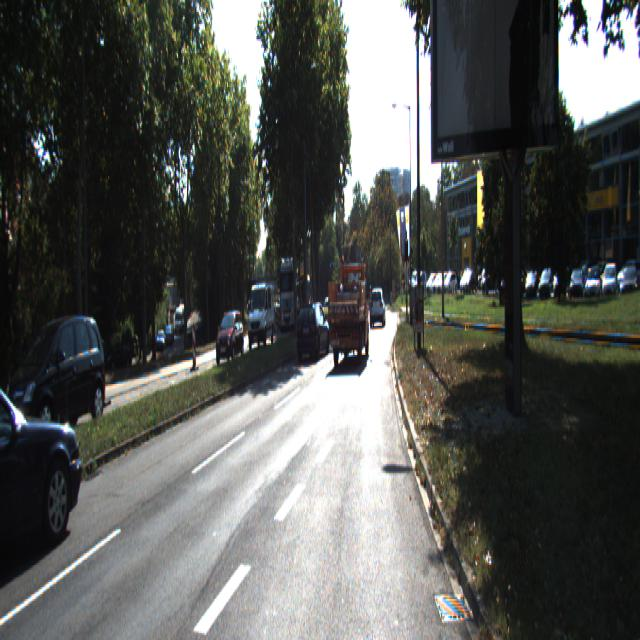Car: (0, 350, 88, 577), (4, 314, 108, 452), (326, 256, 371, 364), (296, 301, 330, 361), (248, 282, 275, 351), (216, 309, 245, 363), (279, 255, 298, 332), (369, 288, 386, 328), (347, 293, 364, 332)
